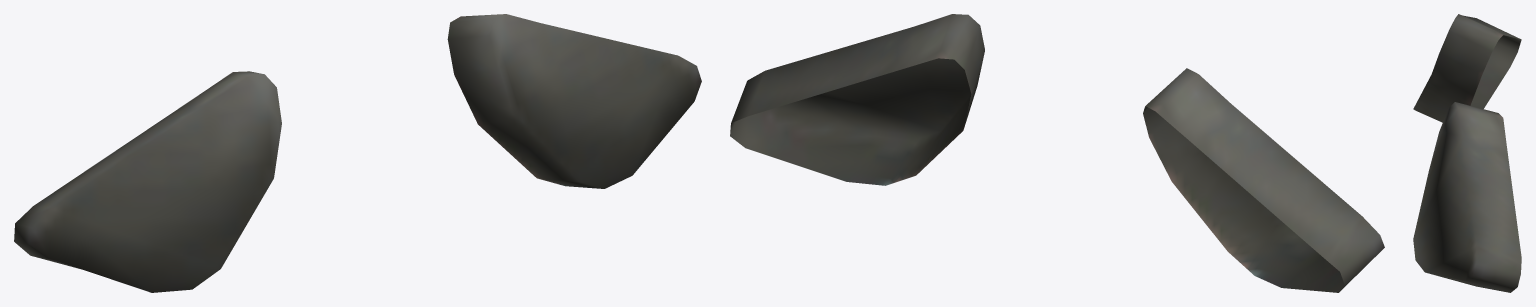
The model's file is Homeworld_Ani_Exterior_Common_Decoration_Prop_WoodAranaraEyes_04_Vo.fbx.
3 views of the same model, side by side, from view 1: azimuth 30°, elevation 25°; view 2: azimuth 150°, elevation 25°; view 3: azimuth 270°, elevation 25° (orthographic). The views are drawn at different scales.
Visible parts, largest first — view 1: Homeworld_Ani_Exterior_Common_Decoration_Prop_WoodAranaraEye; view 2: Homeworld_Ani_Exterior_Common_Decoration_Prop_WoodAranaraEye; view 3: Homeworld_Ani_Exterior_Common_Decoration_Prop_WoodAranaraEye.
Boxes of the visible parts, box(x1,y1,x2,y2) form: Homeworld_Ani_Exterior_Common_Decoration_Prop_WoodAranaraEye: box(14, 14, 701, 292); Homeworld_Ani_Exterior_Common_Decoration_Prop_WoodAranaraEye: box(730, 14, 1384, 292); Homeworld_Ani_Exterior_Common_Decoration_Prop_WoodAranaraEye: box(1413, 14, 1521, 292).
Size of the model in its own units: 0.2528 by 0.0696 by 0.0477.
